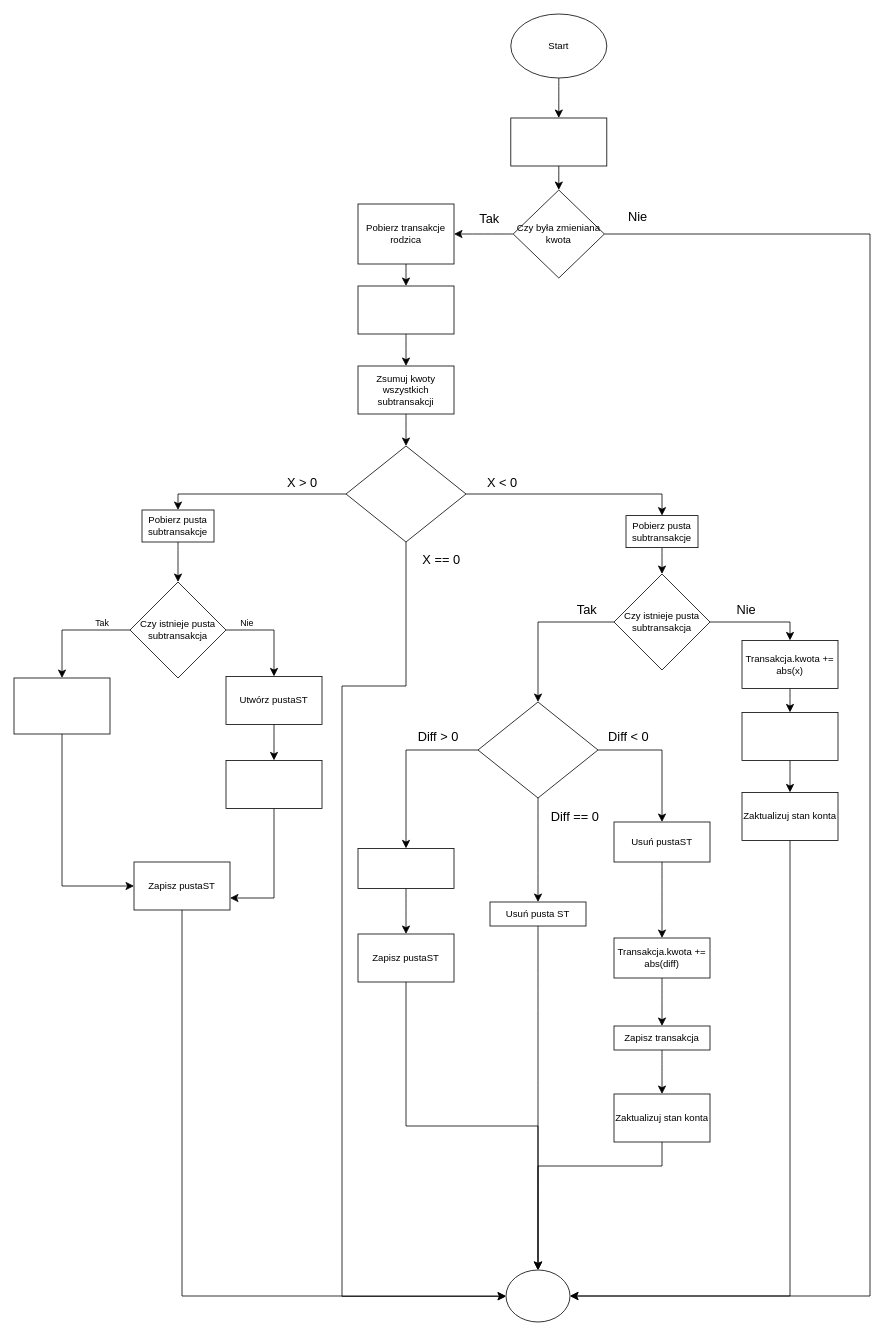
Image size: 892x1336. Some labels were removed from this diagram. Here are the shapes that lost their labels. From the top down, the centre of each, then its label:
(558,141): Zaktualizuj sub transakcję
(405,309): Pobierz wszystkie subtransakcje
(405,493): X = Transakcja.kwota - suma
(61,705): PustaST.kwota += x
(537,749): Diff = pustaST.kwota - abs(x)
(789,736): Zaktualizuj transakcje
(273,784): PustaST.kwota = x
(405,868): PustaST.kwota -= abs(x)
(537,1295): Stop
